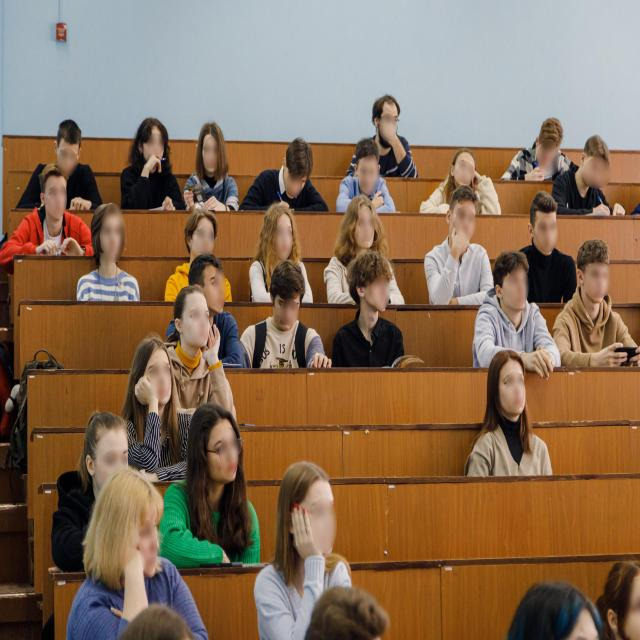Person: (255, 451, 368, 640), (59, 479, 188, 640), (170, 397, 268, 572), (468, 354, 552, 486), (48, 412, 128, 538), (170, 298, 244, 432), (468, 255, 552, 370), (560, 242, 632, 372), (506, 193, 581, 317), (185, 240, 249, 381), (322, 189, 394, 310), (252, 256, 312, 377), (242, 128, 330, 210), (432, 196, 494, 311), (339, 264, 399, 381), (85, 204, 145, 315), (117, 121, 179, 226), (118, 334, 182, 432), (252, 194, 305, 306), (22, 168, 86, 254), (564, 134, 618, 226), (502, 116, 566, 186), (46, 112, 92, 204), (428, 146, 499, 205), (364, 88, 414, 170), (344, 138, 391, 216), (195, 119, 234, 199), (180, 209, 226, 268)
